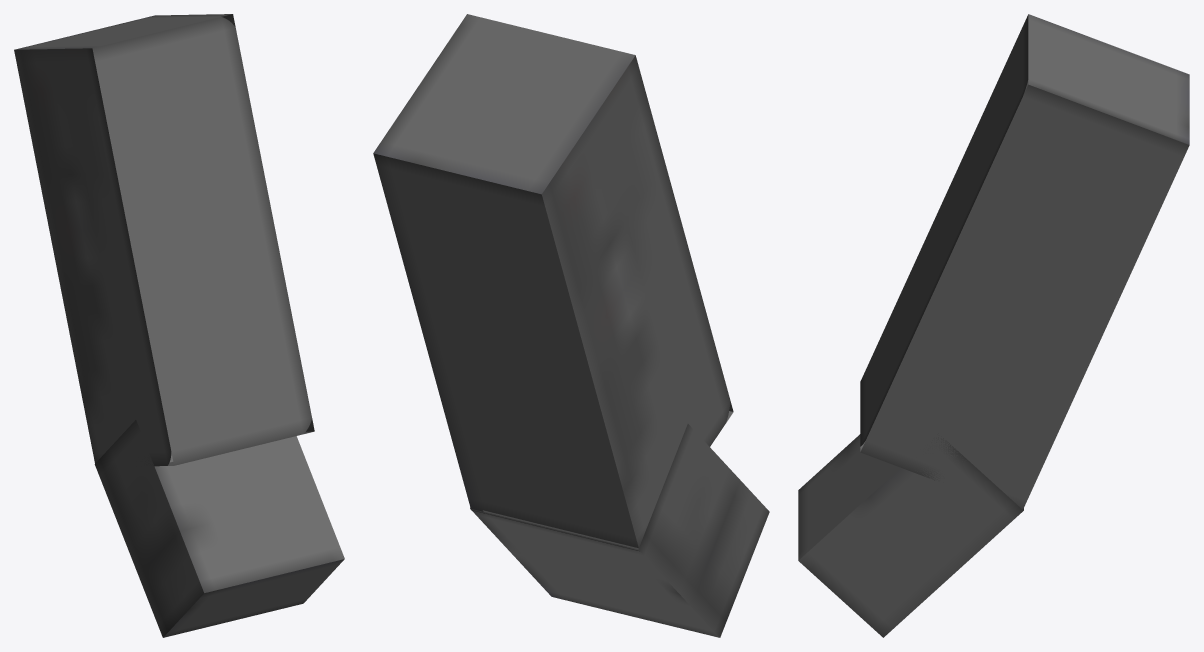
The model's file is suspension_link_left_rear.obj.
3 views of the same model, side by side, from view 1: azimuth 30°, elevation 25°; view 2: azimuth 150°, elevation 25°; view 3: azimuth 270°, elevation 25° (orthographic). The views are drawn at different scales.
Visible parts, largest first — view 1: element_10, element_14; view 2: element_10, element_14; view 3: element_10, element_14.
Part boxes in pixels (box(x1,y1,x2,y2)): element_10: box(14, 14, 314, 466); element_14: box(94, 420, 344, 637); element_10: box(373, 14, 733, 551); element_14: box(470, 424, 769, 637); element_10: box(860, 14, 1189, 509); element_14: box(798, 434, 1023, 637).
Bounding box in the file's own units: 0.1734 × 0.634 × 0.4065.
